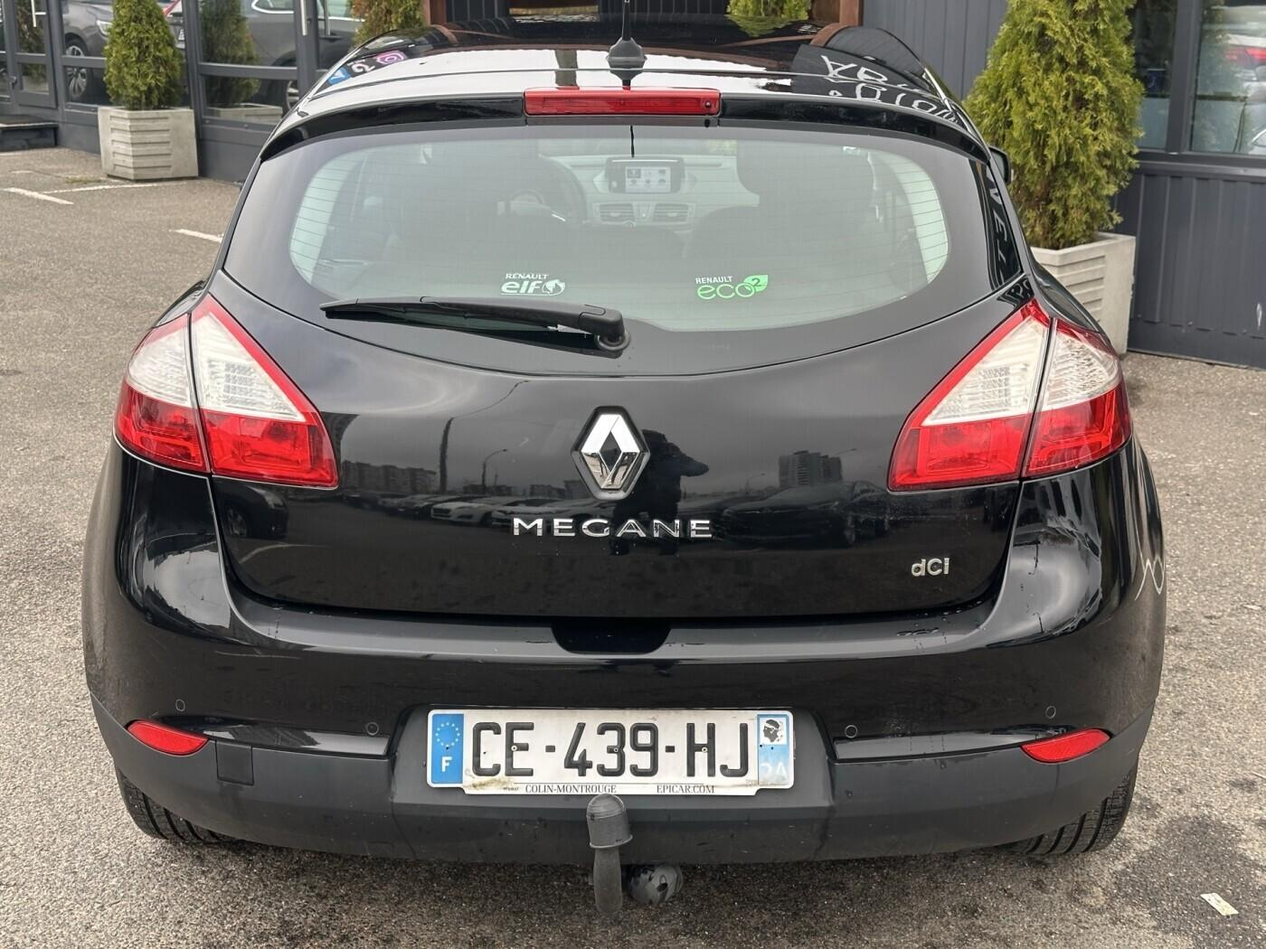Megane_2012-2014: (72, 30, 1178, 893)
